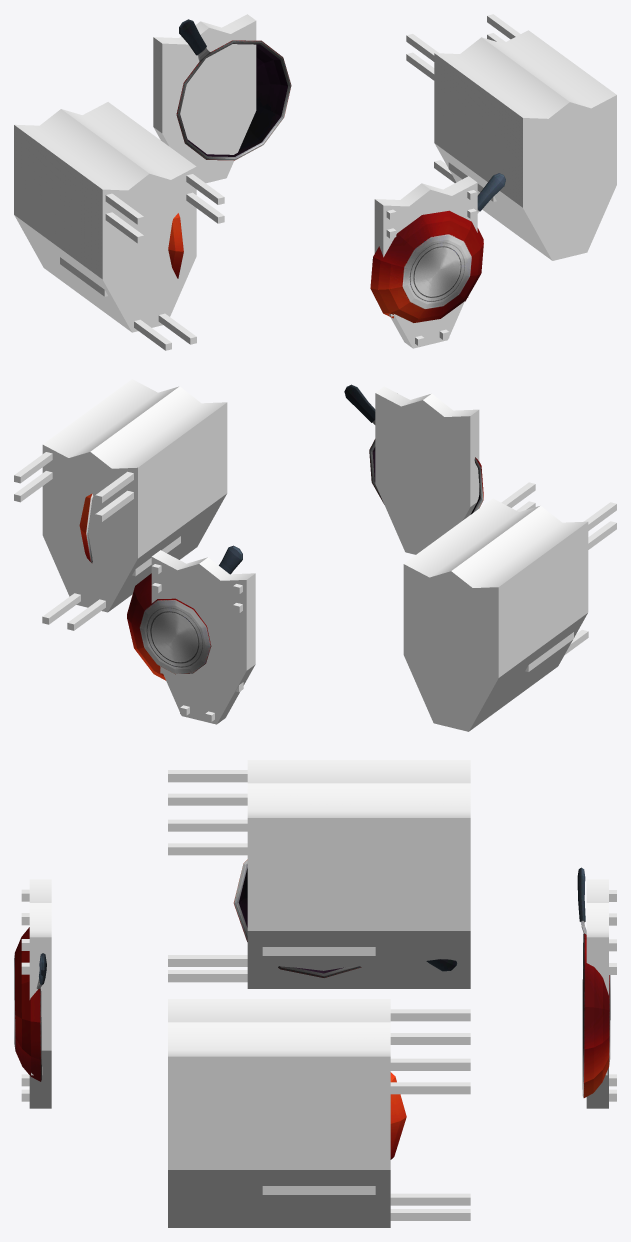
File: shield.fbx
3 renders of one model, top to bottom at view 1: azimuth 30°, elevation 25°; view 2: azimuth 150°, elevation 25°; view 3: azimuth 270°, elevation 25°, orthographic. The views are drawn at different scales.
Visible parts, largest first — view 1: dunpai (2) (×3), dunpai (1), guo (×3), shield; view 2: dunpai (2) (×3), dunpai (1), guo (×3), shield; view 3: dunpai (2) (×3), dunpai (1), guo (×4), shield.
Boxes of the visible parts, left/top/right/bottom form: dunpai (2) (×3): left=14, top=14, right=477, bottom=350; dunpai (1): left=406, top=14, right=616, bottom=260; guo (×3): left=168, top=19, right=505, bottom=322; shield: left=60, top=162, right=496, bottom=316; dunpai (2) (×3): left=151, top=386, right=616, bottom=731; dunpai (1): left=14, top=379, right=227, bottom=630; guo (×3): left=79, top=384, right=483, bottom=680; shield: left=132, top=536, right=573, bottom=692; dunpai (2) (×3): left=21, top=760, right=616, bottom=1108; dunpai (1): left=168, top=999, right=470, bottom=1227; guo (×4): left=14, top=859, right=610, bottom=1159; shield: left=31, top=947, right=607, bottom=1194.
Size of the model in its own units: 6.21 by 2.1 by 5.33.
Materials: 3 (1 with a texture image).
